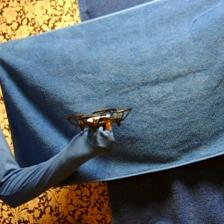drone: (68, 106, 132, 133)
